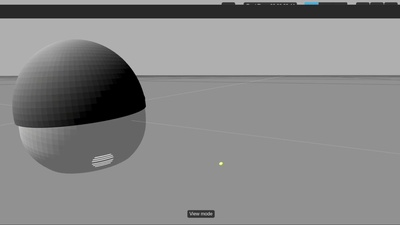mira_robot: (13, 40, 147, 173)
